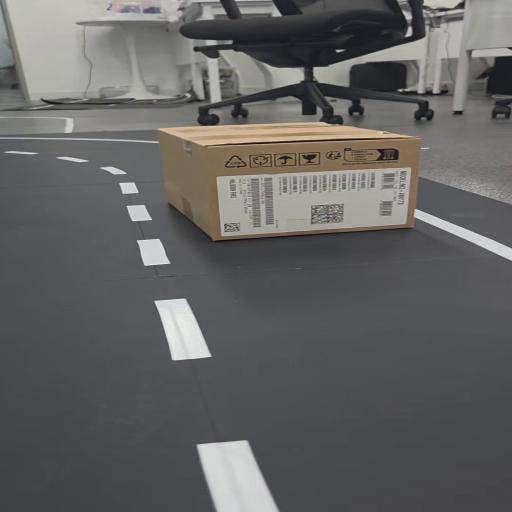Box: (145, 125, 442, 245)
